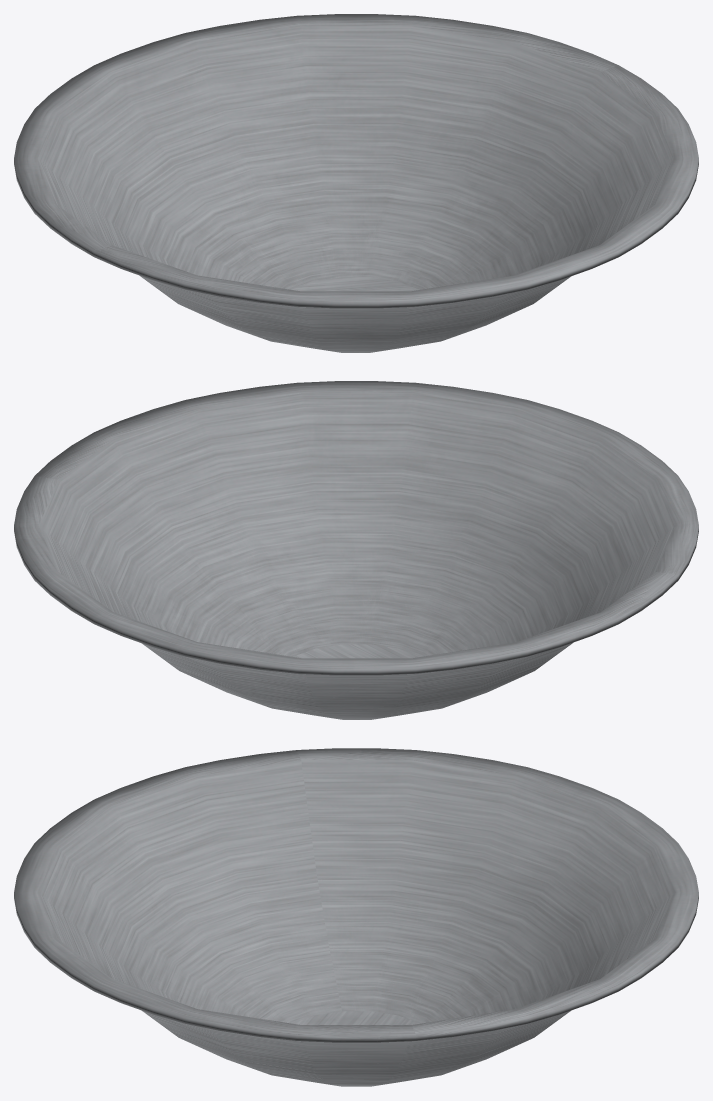
File: plate.obj
The picture shows the model from 3 angles, top to bottom: view 1: azimuth 30°, elevation 25°; view 2: azimuth 150°, elevation 25°; view 3: azimuth 270°, elevation 25°; orthographic projection.
Visible parts, largest first — view 1: bowl; view 2: bowl; view 3: bowl.
Part boxes in pixels (x1,y1,x2,y2): bowl: (14,14,698,352); bowl: (14,381,698,719); bowl: (14,748,698,1086).
Size of the model in its own units: 3.88 by 0.9997 by 3.9.
